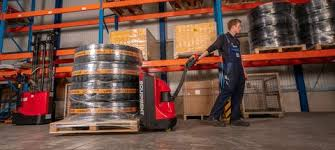Pallet Jack: (49, 53, 202, 136)
